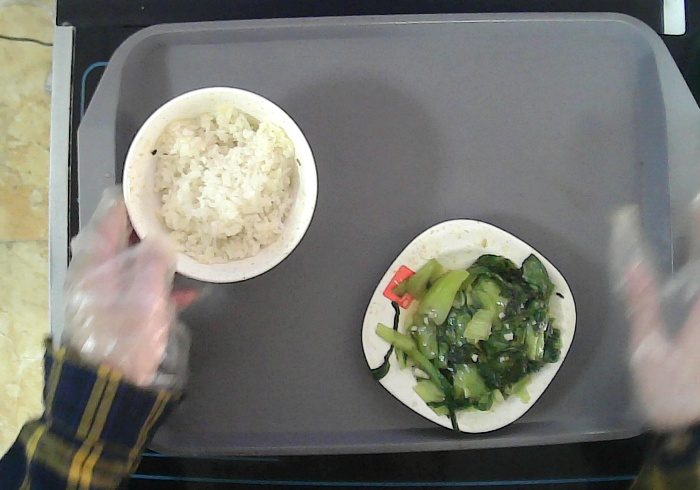SHKJ-Bai_Se_Si_Fang_Cai_Die: (362, 216, 577, 433)
SHKJ-Fan_Wan: (122, 84, 318, 284)
